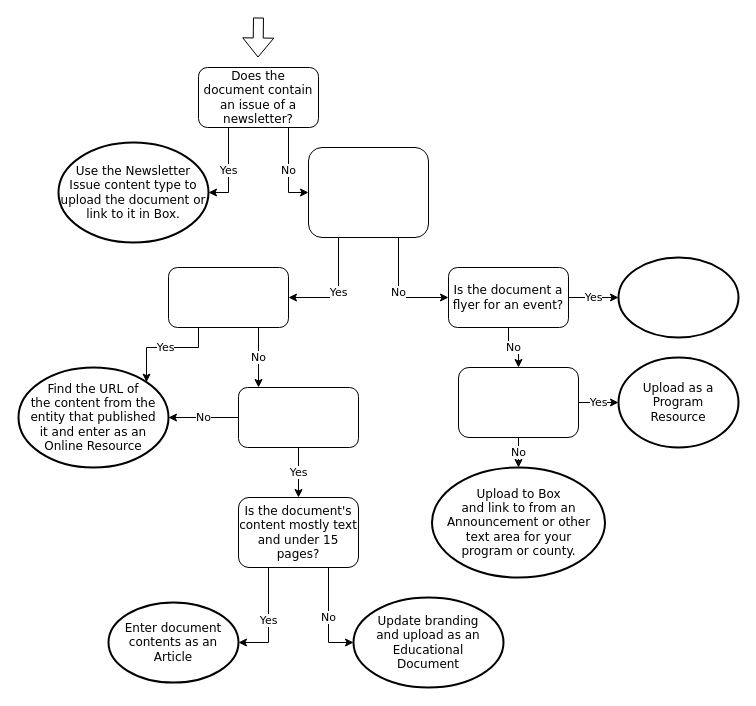
This 756x706 diagram has some shape labels left out. Here are the shapes that lost their labels. From the top down, the centre of each, then its label:
At point (368, 192): "Does the document contain educational content about a topic on the website?".
At point (228, 297): "Is the content already published elsewhere?".
At point (678, 297): "Create an Event and upload the document to it".
At point (298, 417): "Was the content created by OSU Extension?".
At point (518, 402): "Is the document a material needed to participate in a program?".
